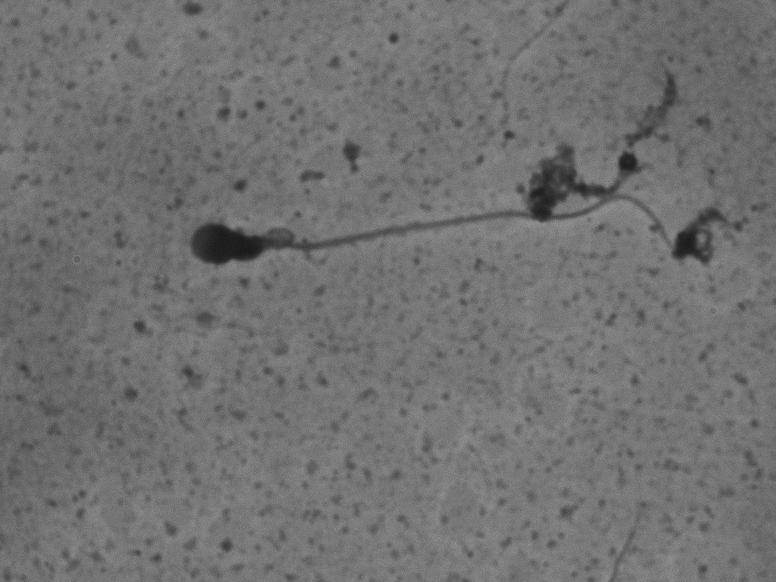Abnormal: (154, 158, 714, 338)
